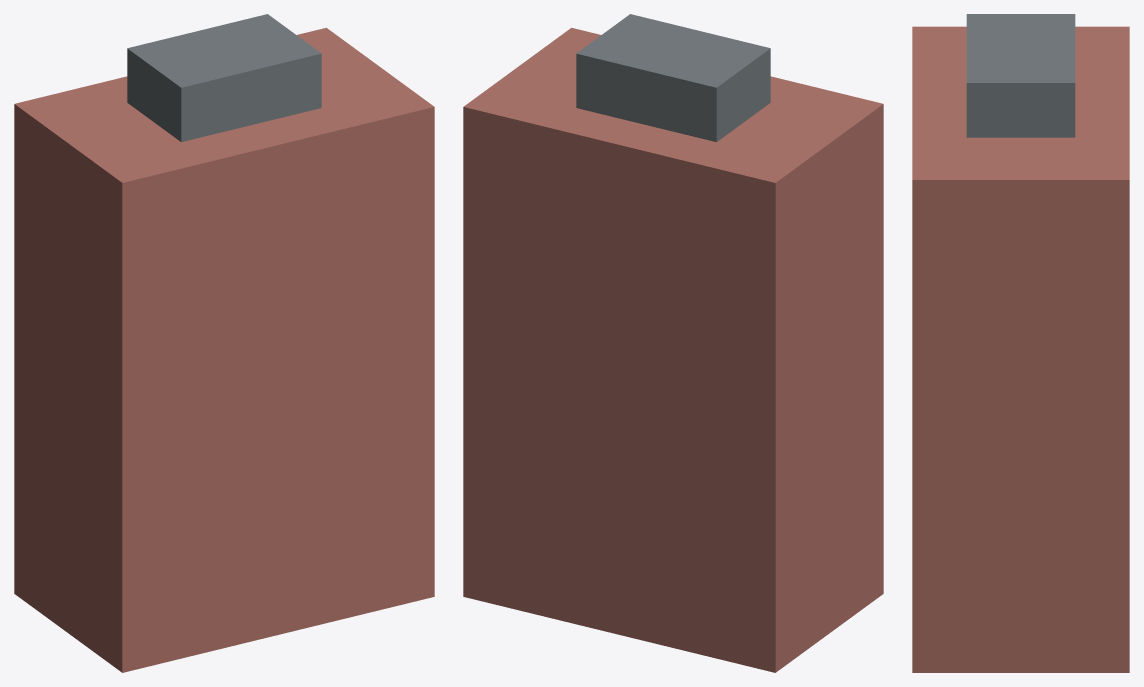
Rendered from fuel_can.glb.
The picture shows the model from 3 angles, left to right: view 1: azimuth 30°, elevation 25°; view 2: azimuth 150°, elevation 25°; view 3: azimuth 270°, elevation 25°; orthographic projection.
Parts seen in each view (by area): view 1: body; view 2: body; view 3: body.
Part boxes in pixels (<box>): body: <box>14,14,434,672</box>; body: <box>463,14,883,672</box>; body: <box>912,14,1129,672</box>.
Bounding box in the file's own units: 0.3 × 0.5 × 0.18.
